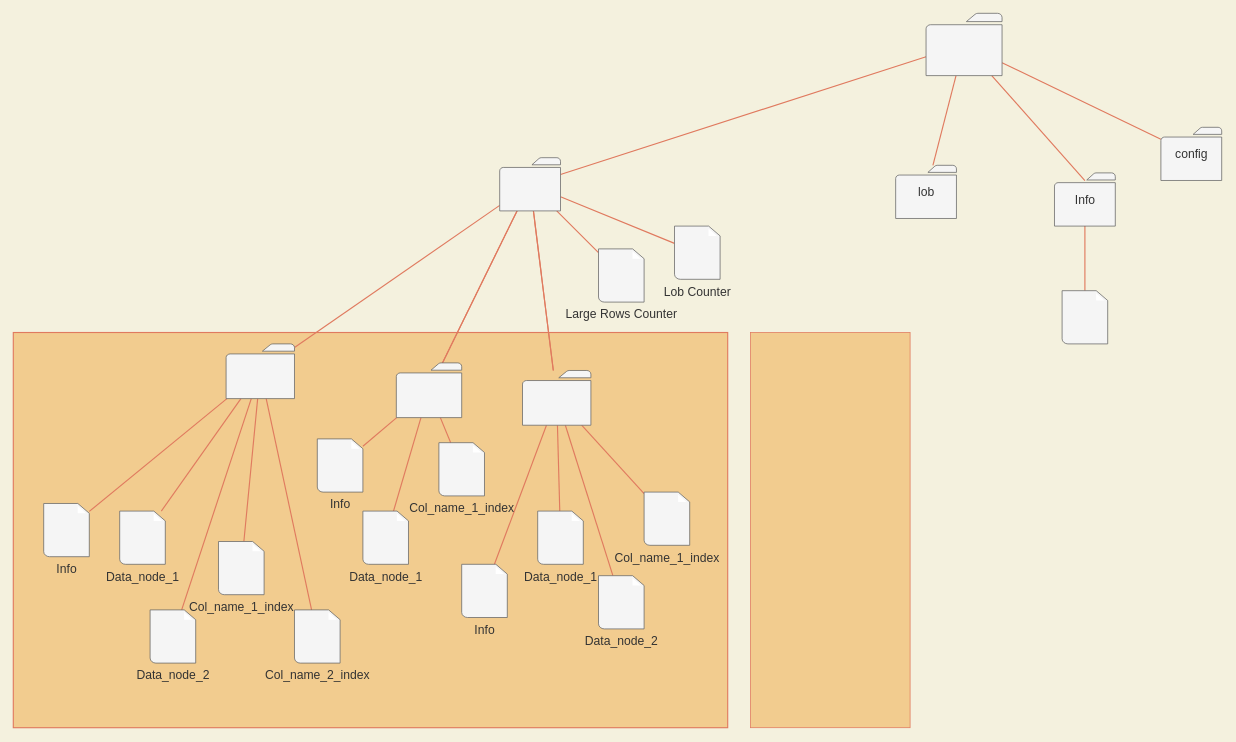
Image size: 1236x742. Some labels were removed from this diagram. Here are the shapes that lost their labels. From the top down, the box of each, then its label:
(925, 13, 1002, 76): $DB_Home
(499, 157, 560, 211): tables
(1061, 290, 1108, 344): user_tables see user_tables.svg
(225, 343, 294, 399): Table_1
(396, 362, 462, 418): Table_2
(522, 370, 591, 425): Table_3
(12, 332, 728, 728): User Tables
(750, 332, 910, 728): System Tables
